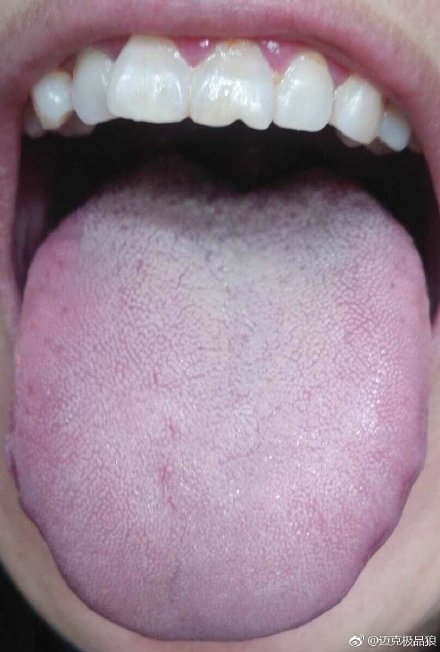baitaishe: (9, 165, 430, 640)
